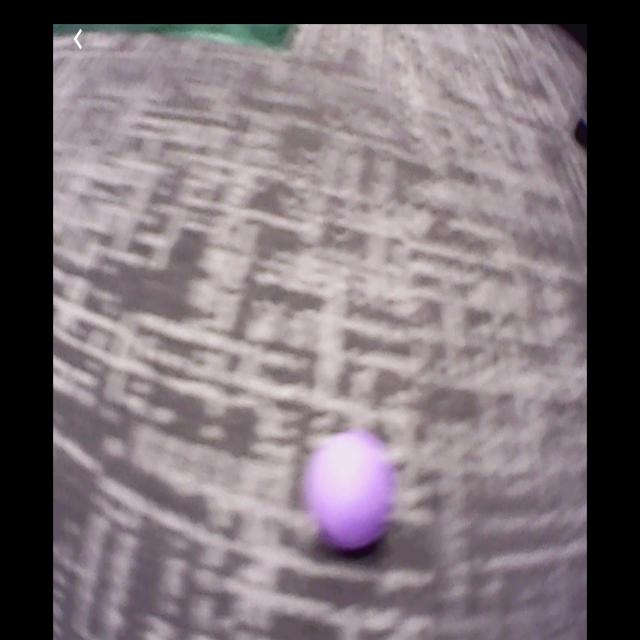ball: (310, 429, 392, 549)
